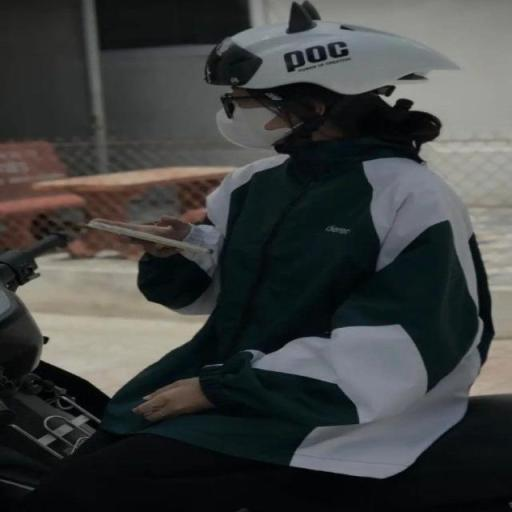with helmet: (212, 20, 468, 95)
